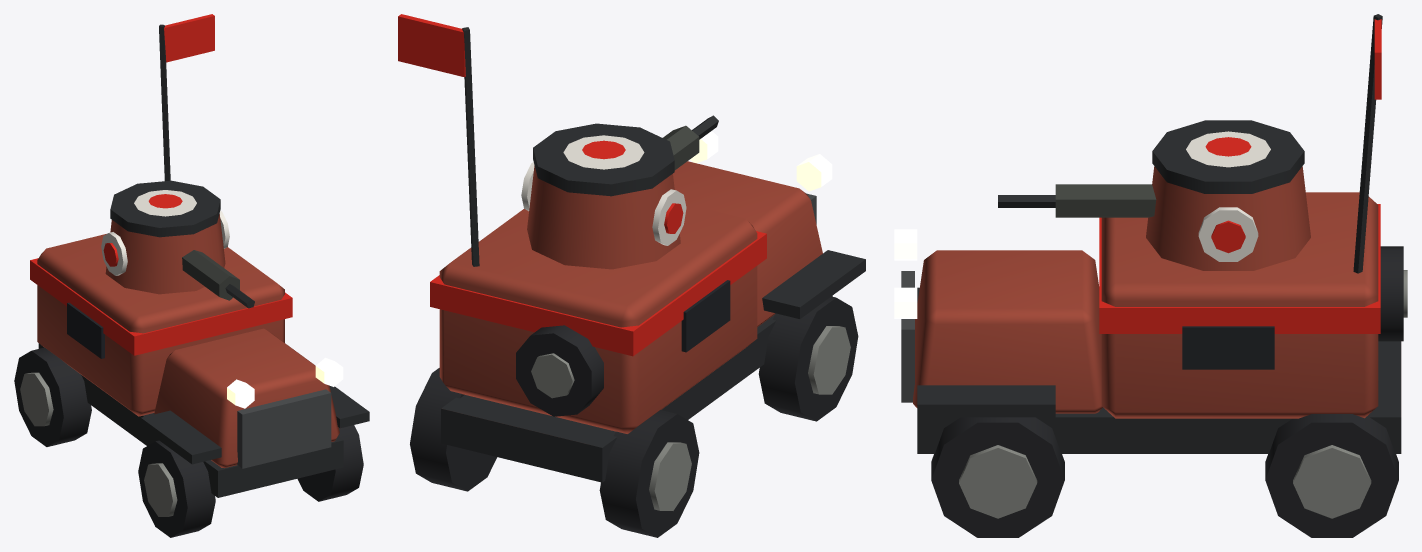
The model's file is assault_dl5_red.glb.
The picture shows the model from 3 angles, left to right: view 1: azimuth 30°, elevation 25°; view 2: azimuth 150°, elevation 25°; view 3: azimuth 270°, elevation 25°; orthographic projection. The views are drawn at different scales.
Parts seen in each view (by area): view 1: assault_dl5_red; view 2: assault_dl5_red; view 3: assault_dl5_red.
Part boxes in pixels (left/top/right/bottom): assault_dl5_red: left=14, top=14, right=369, bottom=537; assault_dl5_red: left=398, top=14, right=865, bottom=537; assault_dl5_red: left=894, top=14, right=1407, bottom=537.
Size of the model in its own units: 0.265 by 0.4774 by 0.4455.
Materials: 2 (1 with a texture image).
